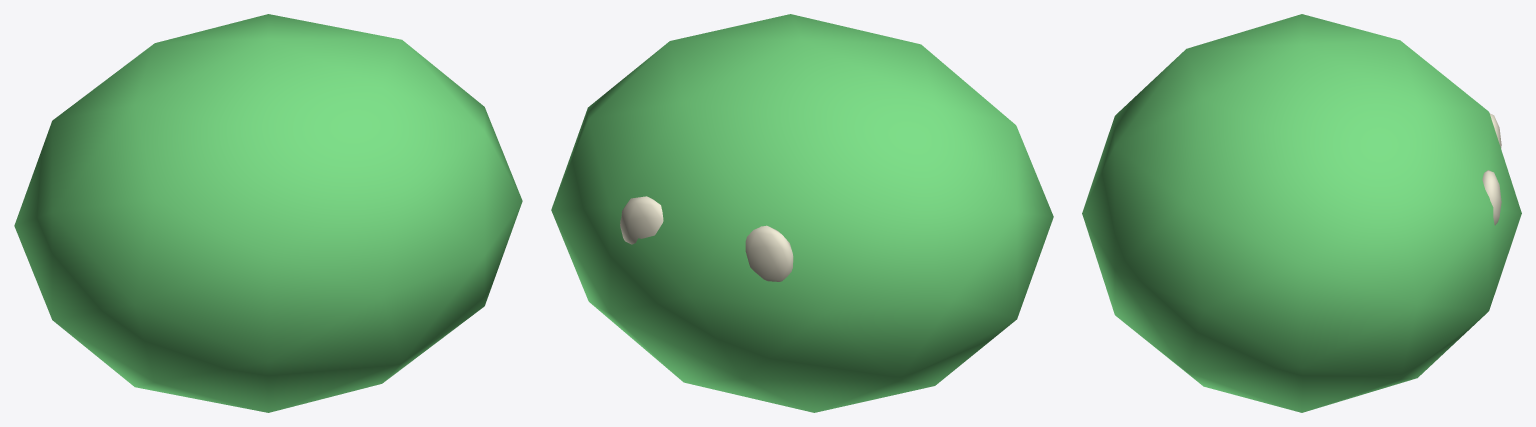
Rendered from slime.glb.
3 views of the same model, side by side, from view 1: azimuth 30°, elevation 25°; view 2: azimuth 150°, elevation 25°; view 3: azimuth 270°, elevation 25° (orthographic). The views are drawn at different scales.
Parts seen in each view (by area): view 1: slime_body; view 2: slime_body, slime_eye_L, slime_eye_R; view 3: slime_body, slime_eye_R.
Part boxes in pixels (x1,y1,x2,y2): slime_body: (14,14,522,412); slime_body: (551,14,1053,412); slime_eye_L: (745,225,793,281); slime_eye_R: (620,196,663,244); slime_body: (1082,14,1521,412); slime_eye_R: (1482,170,1501,225).
Size of the model in its own units: 1.43 by 1.1 by 1.3.
